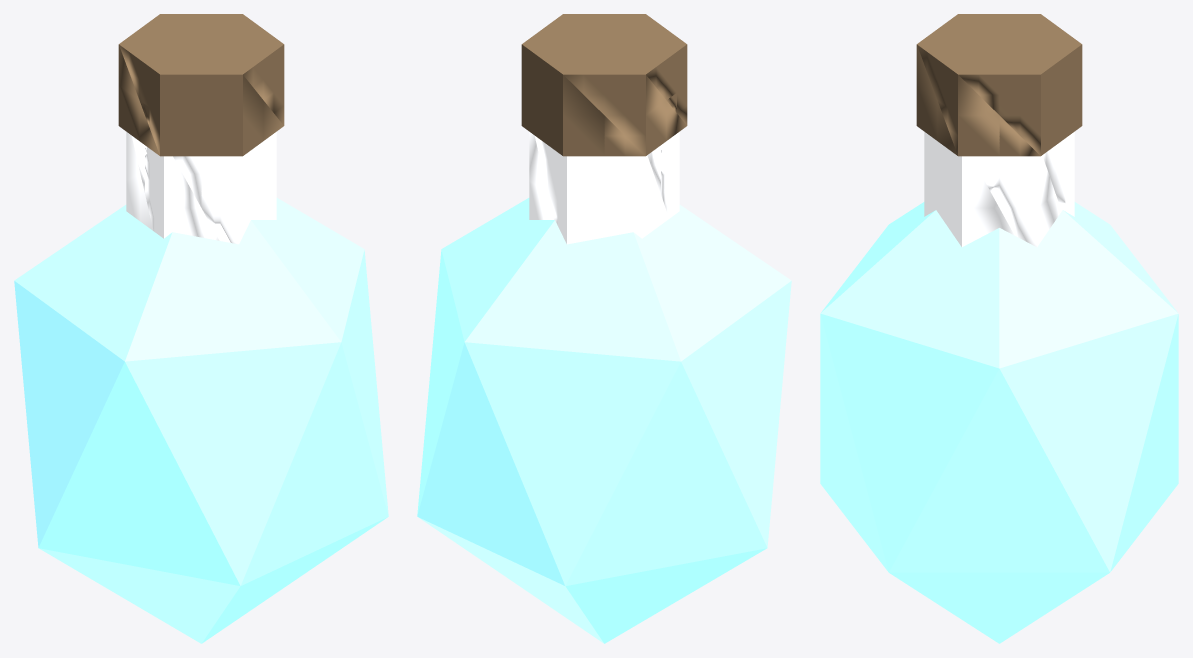
File: potion_mana.glb
The picture shows the model from 3 angles, left to right: view 1: azimuth 30°, elevation 25°; view 2: azimuth 150°, elevation 25°; view 3: azimuth 270°, elevation 25°; orthographic projection.
Visible parts, largest first — view 1: PotionMana; view 2: PotionMana; view 3: PotionMana.
Boxes of the visible parts, box(x1,y1,x2,y2) form: PotionMana: box(14, 14, 388, 643); PotionMana: box(417, 14, 791, 643); PotionMana: box(820, 14, 1178, 643).
Bounding box in the file's own units: 0.5009 × 0.88 × 0.4764.
